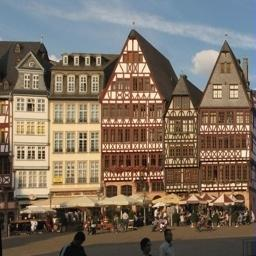building: (103, 24, 256, 223), (50, 45, 100, 210), (0, 41, 46, 212)
